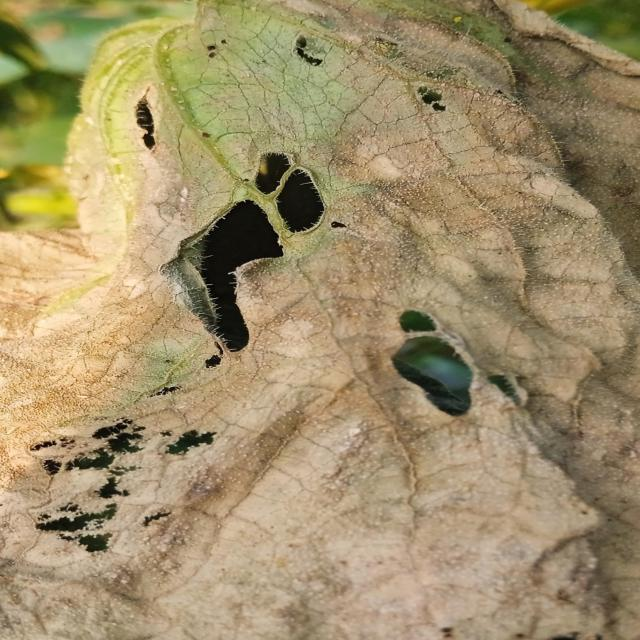cucumber_anthracnose: (25, 31, 627, 582)
